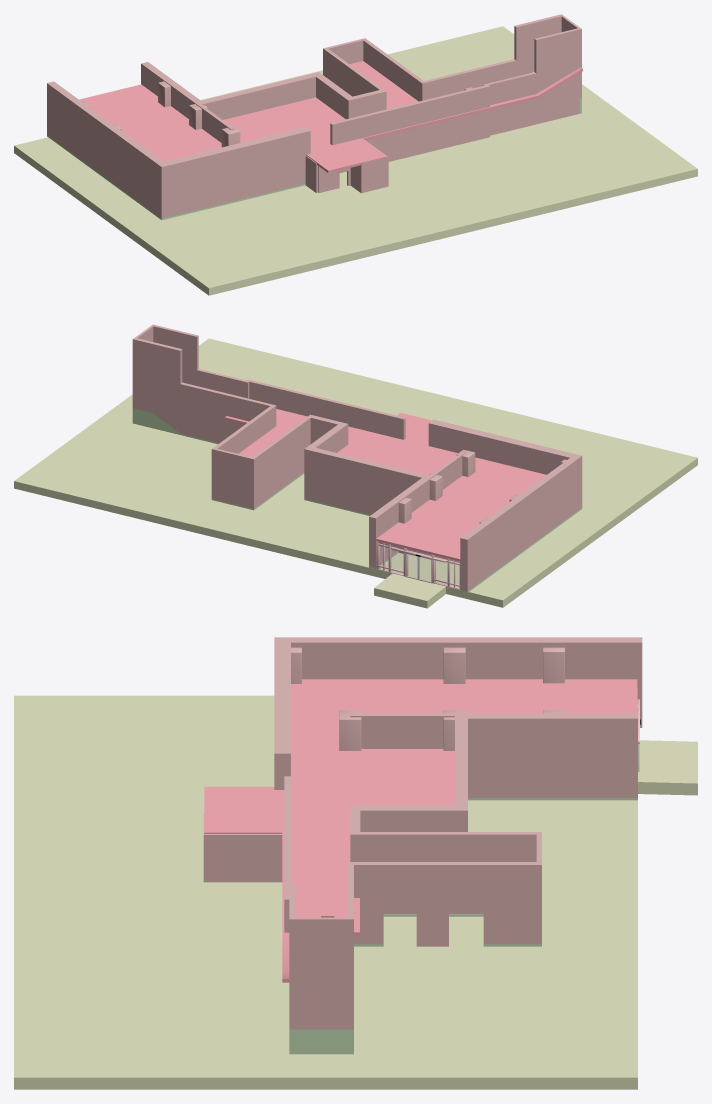
The model's file is structure_outline.fbx.
3 renders of one model, top to bottom at view 1: azimuth 30°, elevation 25°; view 2: azimuth 150°, elevation 25°; view 3: azimuth 270°, elevation 25°, orthographic. The views are drawn at different scales.
Parts seen in each view (by area): view 1: Plane, Cube.006, Cube.012, Cube.003, ceilling.001, Cube.026, Cube.010; view 2: Plane, Cube.012, ceilling.001, Cube.006, Cube.003, Cube.063, Cube.038, Cube.058; view 3: Plane, Cube.012, ceilling.001, Cube.006, Cube.007, Cube.003, entrance_big_pillar.005, entrance_big_pillar, entrance_big_pillar.003.
Part boxes in pixels (bbox=[...]): Plane: bbox=[14, 26, 697, 295]; Cube.006: bbox=[47, 81, 310, 220]; Cube.012: bbox=[141, 14, 581, 142]; Cube.003: bbox=[330, 28, 579, 161]; ceilling.001: bbox=[79, 61, 582, 172]; Cube.026: bbox=[350, 156, 388, 193]; Cube.010: bbox=[318, 166, 350, 192]; Plane: bbox=[14, 338, 697, 608]; Cube.012: bbox=[132, 324, 465, 569]; ceilling.001: bbox=[182, 382, 546, 561]; Cube.006: bbox=[428, 419, 582, 592]; Cube.003: bbox=[153, 325, 405, 439]; Cube.063: bbox=[376, 541, 460, 589]; Cube.038: bbox=[379, 544, 458, 587]; Cube.058: bbox=[405, 553, 432, 583]; Plane: bbox=[14, 695, 697, 1089]; Cube.012: bbox=[289, 713, 637, 1054]; ceilling.001: bbox=[204, 679, 637, 982]; Cube.006: bbox=[274, 637, 642, 789]; Cube.007: bbox=[206, 834, 282, 882]; Cube.003: bbox=[284, 776, 294, 932]; entrance_big_pillar.005: bbox=[339, 710, 361, 750]; entrance_big_pillar: bbox=[443, 647, 465, 683]; entrance_big_pillar.003: bbox=[543, 647, 564, 683].
Size of the model in its own units: 6708 by 1215 by 5076.
